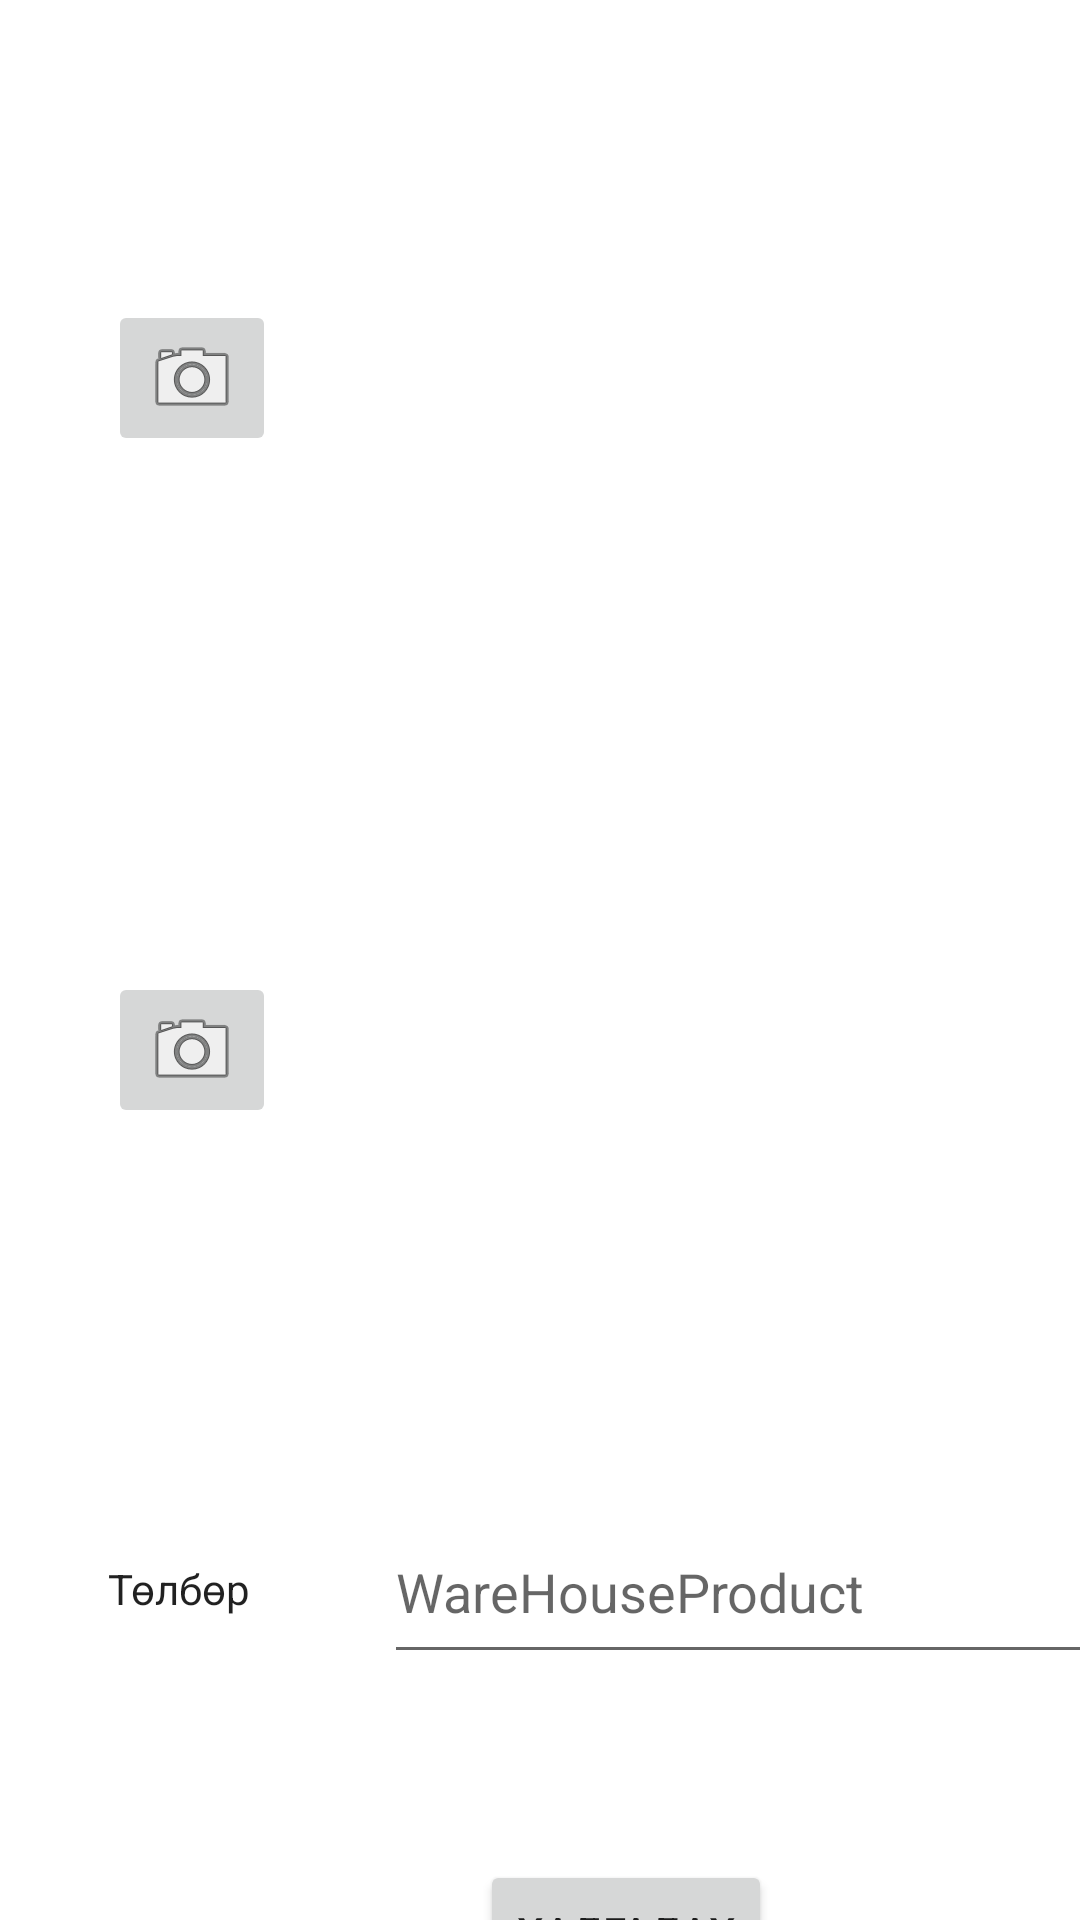

Where to tap for icons on this 1080 x 1920 app screen, as (x,y):
camera: (192,378), (192,1050)
